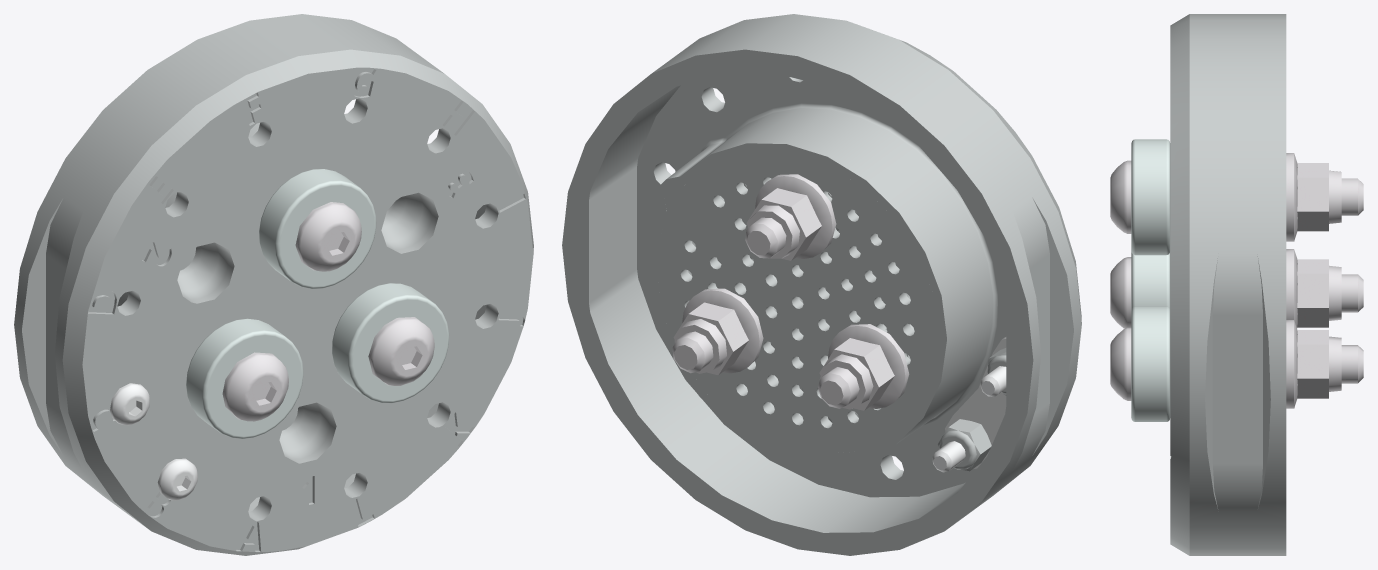
Rendered from watering_nozzle.glb.
3 views of the same model, side by side, from view 1: azimuth 30°, elevation 25°; view 2: azimuth 150°, elevation 25°; view 3: azimuth 270°, elevation 25° (orthographic).
Visible parts, largest first — view 1: M5 x 30mm Screw; view 2: M5 x 30mm Screw; view 3: M5 x 30mm Screw.
Boxes of the visible parts, x1,y1,x2,y2 form: M5 x 30mm Screw: (14,14,533,555); M5 x 30mm Screw: (562,14,1081,555); M5 x 30mm Screw: (1110,14,1363,555).
Size of the model in its own units: 0.07 by 0.07 by 0.0328.
Materials: 1 (1 with a texture image).
